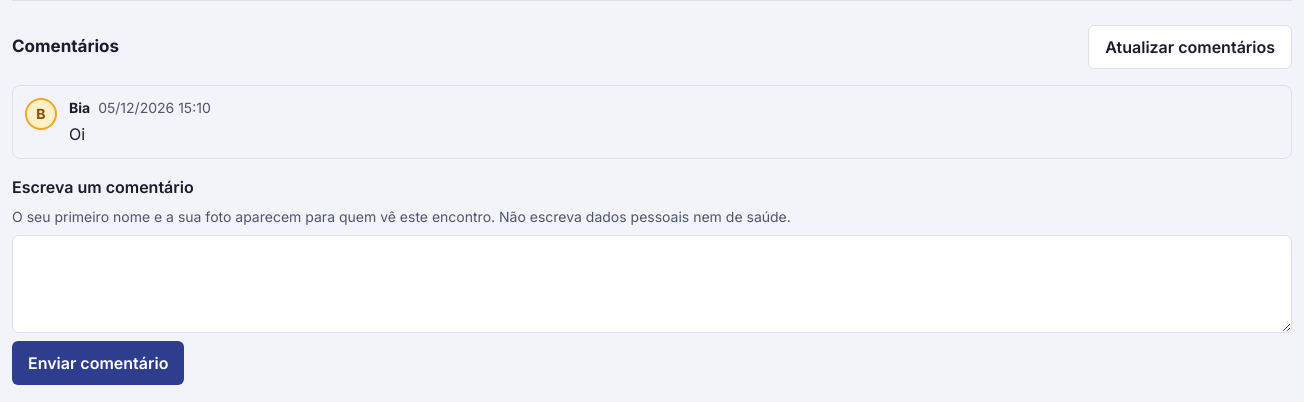
Test case: comentários do encontro › desabilita Atualizar enquanto atualiza e anuncia o estado
Click the button "Atualizar comentários": (1190, 47) [1088,25,1292,69]
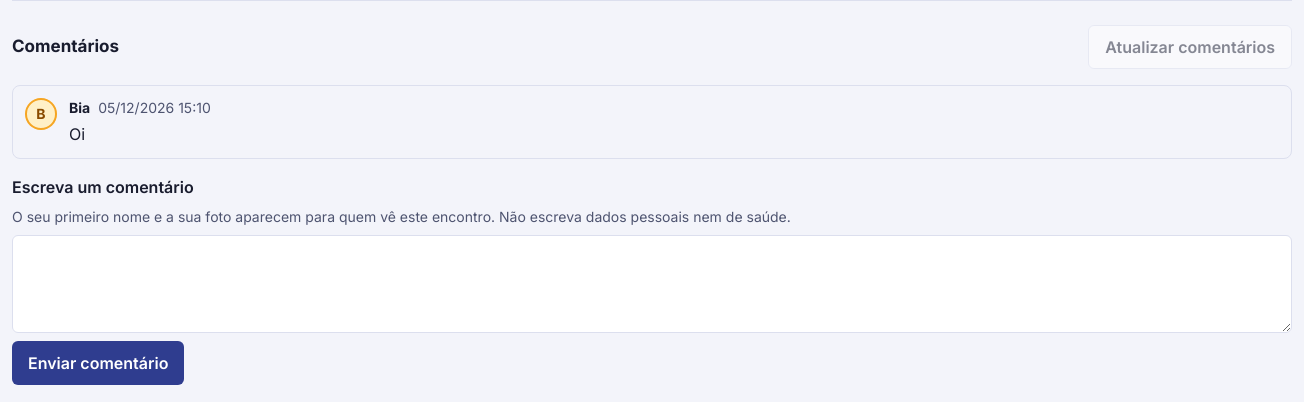
Check: the button "Atualizar comentários" is disabled
Click the button "Atualizar comentários": (1190, 47) [1088,25,1292,69]
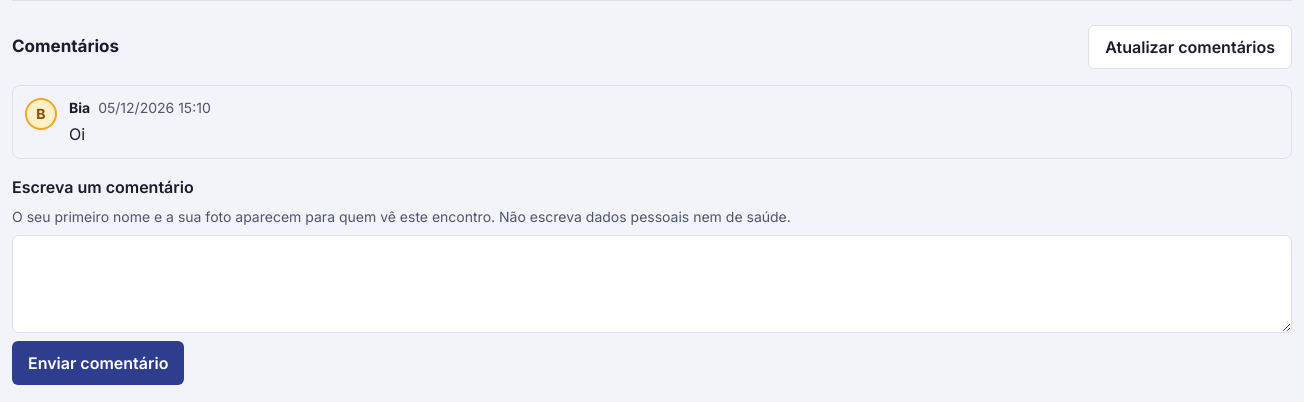
Check: the button "Atualizar comentários" is enabled, box [1088,25,1292,69]
